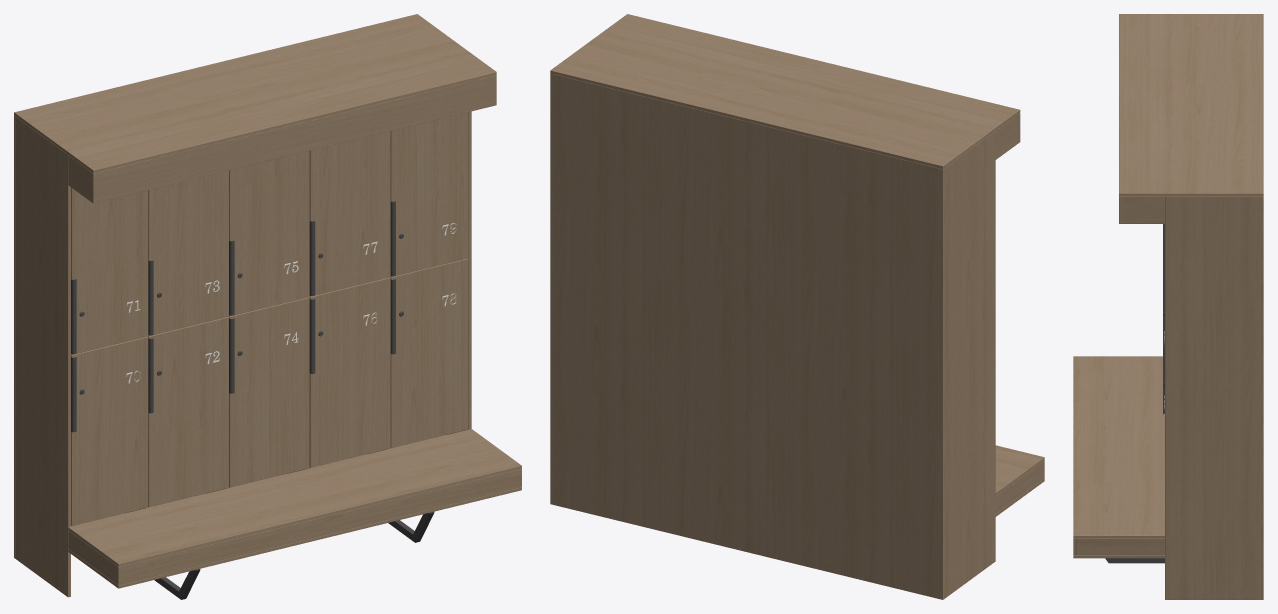
File: locker1.glb
The picture shows the model from 3 angles, left to right: view 1: azimuth 30°, elevation 25°; view 2: azimuth 150°, elevation 25°; view 3: azimuth 270°, elevation 25°; orthographic projection. The views are drawn at different scales.
Visible parts, largest first — view 1: GYM Locker 01-004, GYM Locker 01-001, GYM Locker 01-002; view 2: GYM Locker 01-004; view 3: GYM Locker 01-004, GYM Locker 01-001.
Boxes of the visible parts, <box> form: GYM Locker 01-004: <box>14,14,521,597</box>; GYM Locker 01-001: <box>71,201,434,599</box>; GYM Locker 01-002: <box>126,223,456,383</box>; GYM Locker 01-004: <box>550,14,1044,599</box>; GYM Locker 01-004: <box>1073,14,1263,599</box>; GYM Locker 01-001: <box>1105,224,1164,563</box>.
Size of the model in its own units: 2.1 by 2.22 by 0.9417.
3 materials, 1 textured.
